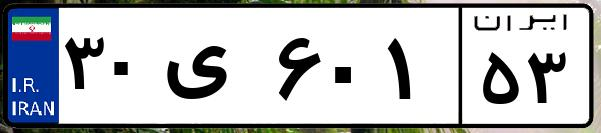0: (330, 28, 385, 110), (110, 28, 158, 98)
1: (385, 28, 445, 110)
3: (57, 26, 110, 100), (525, 38, 570, 115)
5: (475, 38, 525, 113)
6: (270, 28, 330, 110)
ی: (158, 20, 270, 120)
